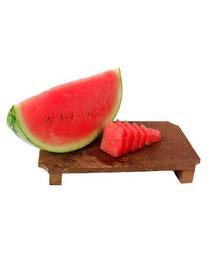watermelon: (6, 69, 164, 154)
